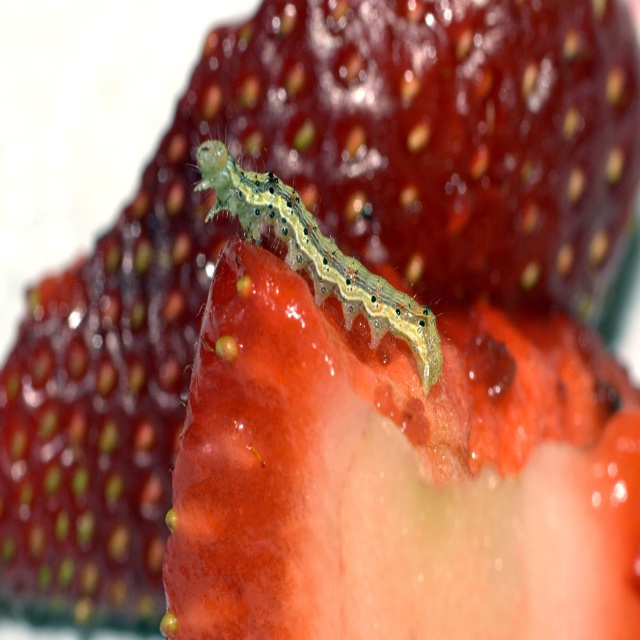Caterpillar: (186, 122, 442, 389)
